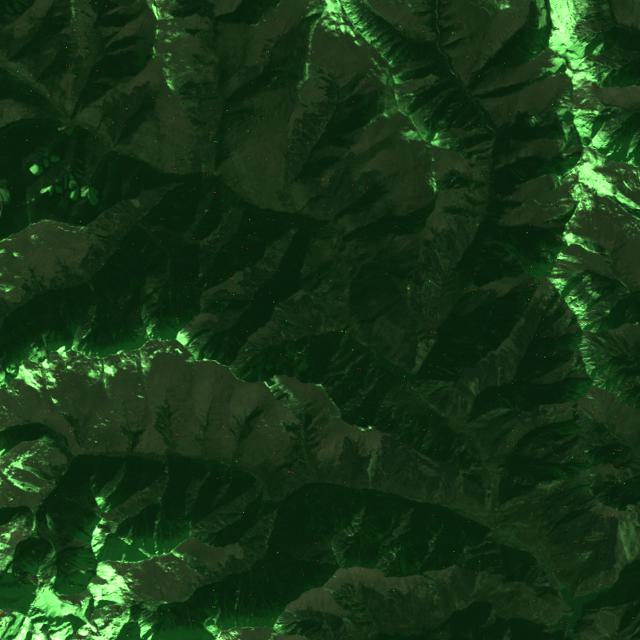landslides: (367, 449, 380, 499), (626, 512, 640, 558), (617, 518, 631, 563), (421, 421, 443, 449), (423, 420, 440, 440), (421, 381, 445, 395), (340, 324, 352, 344), (459, 344, 486, 352), (419, 342, 432, 356), (418, 585, 427, 604), (416, 349, 429, 360), (368, 363, 382, 372), (454, 599, 462, 614), (462, 449, 472, 461), (630, 508, 639, 521), (476, 580, 484, 593), (496, 367, 500, 392)
